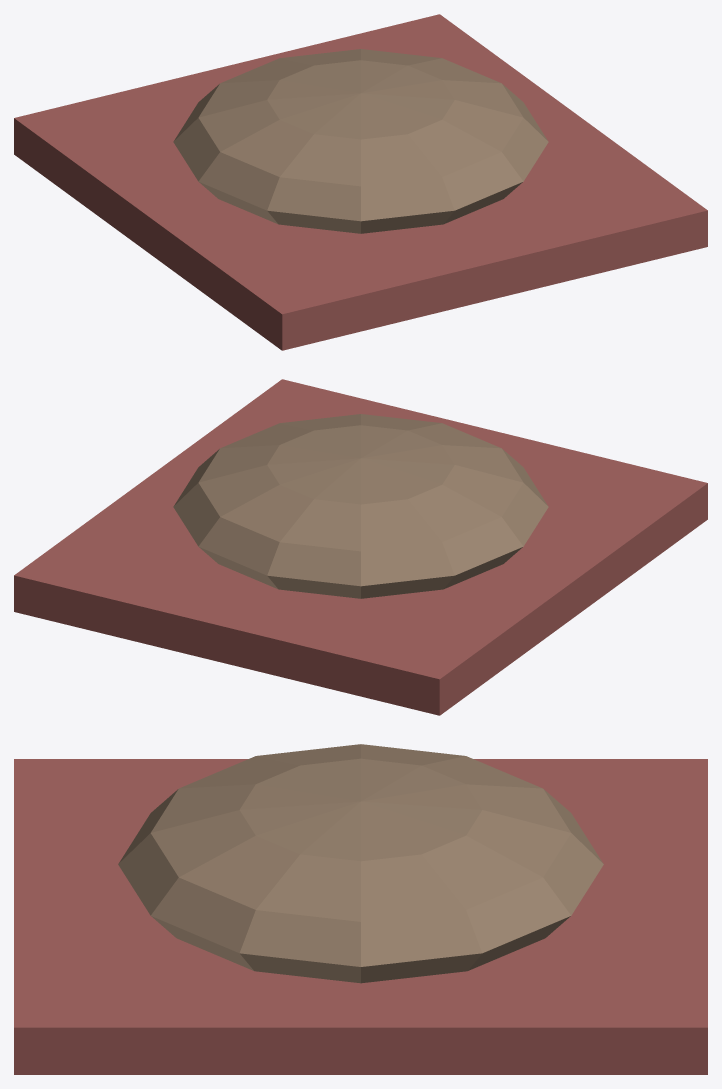
Rendered from EQ-SADDLE.glb.
The picture shows the model from 3 angles, top to bottom: view 1: azimuth 30°, elevation 25°; view 2: azimuth 150°, elevation 25°; view 3: azimuth 270°, elevation 25°; orthographic projection. The views are drawn at different scales.
Visible parts, largest first — view 1: saddle_pad, seat; view 2: saddle_pad, seat; view 3: saddle_pad, seat.
Part boxes in pixels (x1,y1,x2,y2): saddle_pad: (14,14,707,350); seat: (173,49,548,233); saddle_pad: (14,379,707,715); seat: (173,414,548,598); saddle_pad: (14,759,707,1074); seat: (118,744,603,983).
Bounding box in the file's own units: 0.55 × 0.1325 × 0.6.
